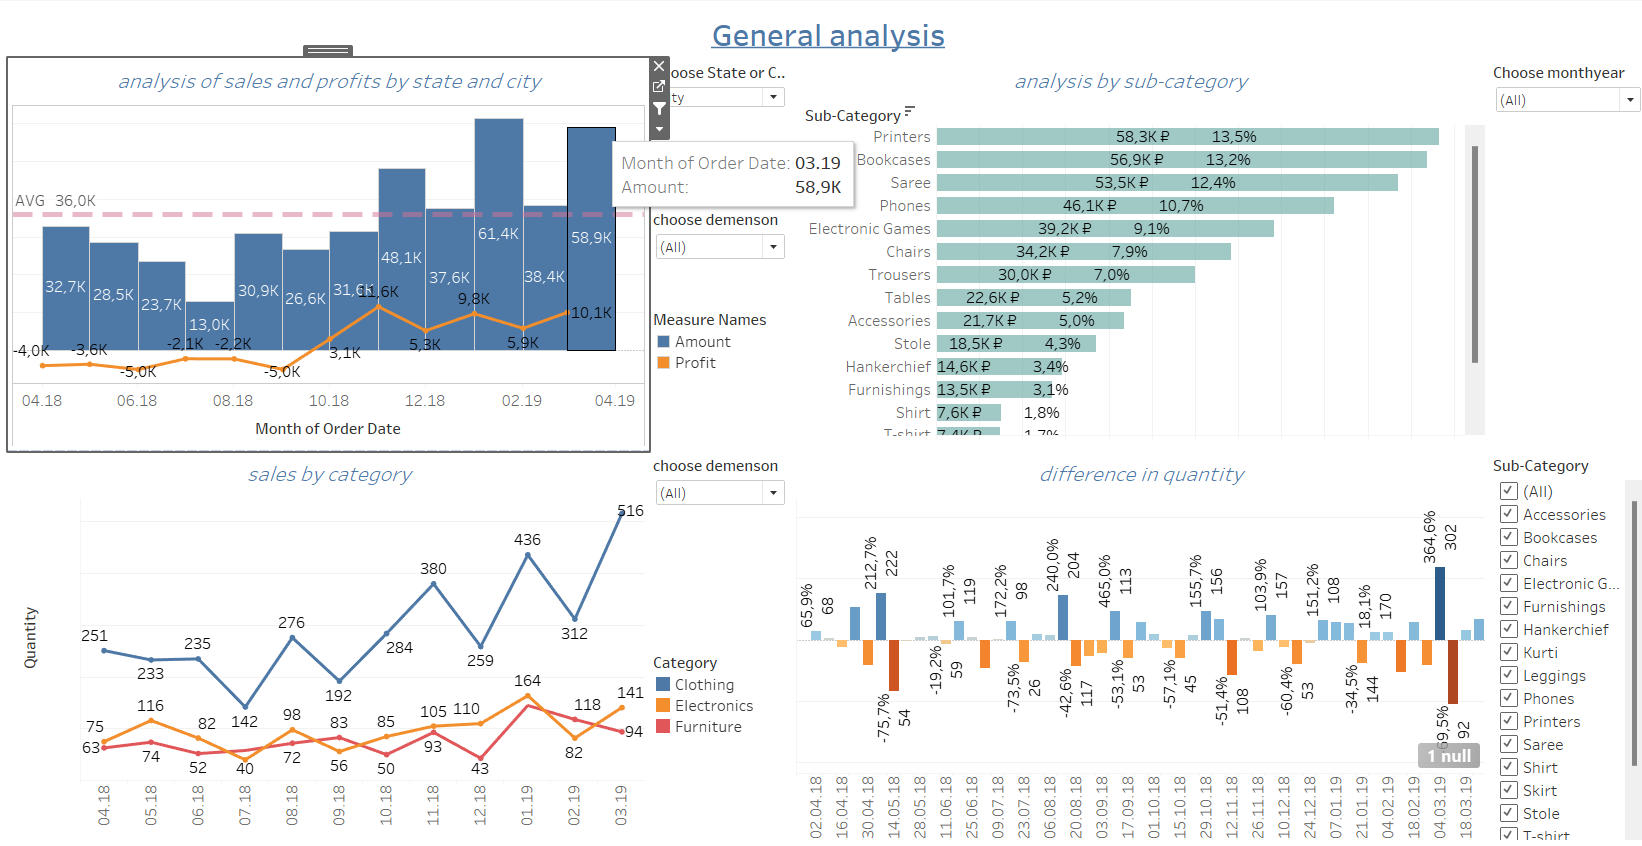

This screenshot's page, from the dashboard's own definition file:
{"tool":"tableau","page":{"name":"General analysis","canvas":[1000,1000],"units":"permille","ordinal":0},"visuals":[{"type":"title","box":[4.8,9.4,990.3,57.6]},{"type":"worksheet","title":"analysis of sales and profits by state and city","mark":"Automatic","rows":["Amount","Profit"],"cols":["Order Date"],"box":[4.8,67,386.8,461.8]},{"type":"parameter","param":"[Parameters].[Parameter 1]","box":[391.7,67,86.3,172.4]},{"type":"worksheet","title":"analysis by sub-category","mark":"Automatic","rows":["Sub-Category"],"cols":["Amount"],"box":[478,67,420.6,461.8]},{"type":"filter","title":"analysis by sub-category","param":"[federated.0ek4ghn13xhm711bbmwtt0xa92cz].[my:Order Date:ok]","box":[898.6,67,96.6,461.8]},{"type":"filter","title":"analysis of sales and profits by state and city","param":"[federated.0ek4ghn13xhm711bbmwtt0xa92cz].[none:Calculation_1299007059453788200:n","box":[391.7,239.4,86.3,117.5]},{"type":"legend","title":"analysis of sales and profits by state and city","param":"[federated.0ek4ghn13xhm711bbmwtt0xa92cz].[:Measure Names]","box":[391.7,356.9,86.3,172.4]},{"type":"worksheet","title":"sales by category","mark":"Automatic","rows":["Quantity"],"cols":["Order Date"],"box":[4.8,528.8,386.8,461.8]},{"type":"worksheet","title":"difference in quantity","mark":"Bar","rows":["Quantity"],"cols":["Order Date"],"box":[478,528.8,420.6,461.8]},{"type":"filter","title":"difference in quantity","param":"[federated.0ek4ghn13xhm711bbmwtt0xa92cz].[none:Sub-Category:nk]","box":[898.6,528.8,96.6,461.8]},{"type":"filter","title":"sales by category","param":"[federated.0ek4ghn13xhm711bbmwtt0xa92cz].[none:Calculation_1299007059453788200:n","box":[391.7,529.3,86.3,230.6]},{"type":"legend","title":"sales by category","param":"[federated.0ek4ghn13xhm711bbmwtt0xa92cz].[none:Category:nk]","box":[391.7,760,86.3,230.6]}]}

Visuals, with their boxes on the dashboard's canvas, which has no fixed pixel size, in thousandths of its width and height (x1, y1, x2, y2). These are canvas units, not pixel positions in the 1642x846 screenshot, which may show the page scaled, cropped or inside an application window:
title: 5,9,995,67
"analysis of sales and profits by state and city" worksheet: 5,67,392,529
parameter: 392,67,478,239
"analysis by sub-category" worksheet: 478,67,899,529
"analysis by sub-category" filter: 899,67,995,529
"analysis of sales and profits by state and city" filter: 392,239,478,357
"analysis of sales and profits by state and city" legend: 392,357,478,529
"sales by category" worksheet: 5,529,392,991
"difference in quantity" worksheet (Bar marks): 478,529,899,991
"difference in quantity" filter: 899,529,995,991
"sales by category" filter: 392,529,478,760
"sales by category" legend: 392,760,478,991
